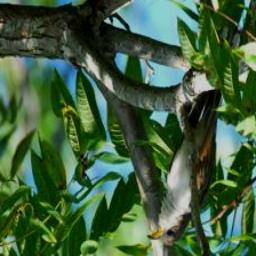Cuckoo: (147, 91, 223, 247)
